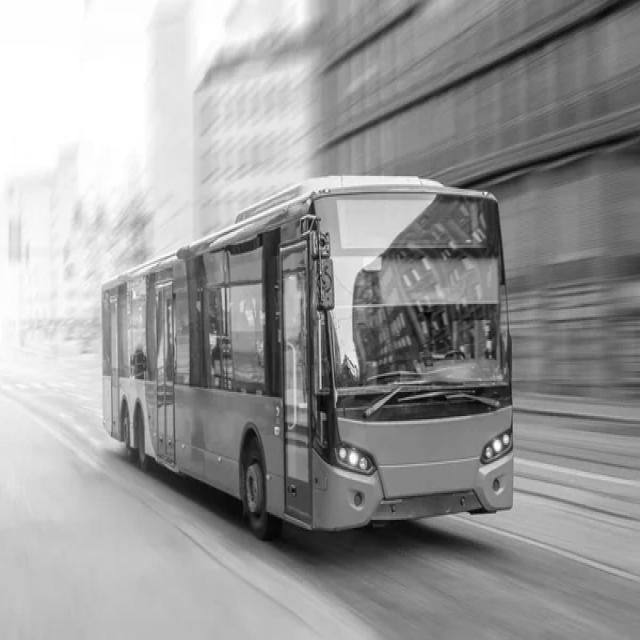Bus: (101, 176, 516, 537)
